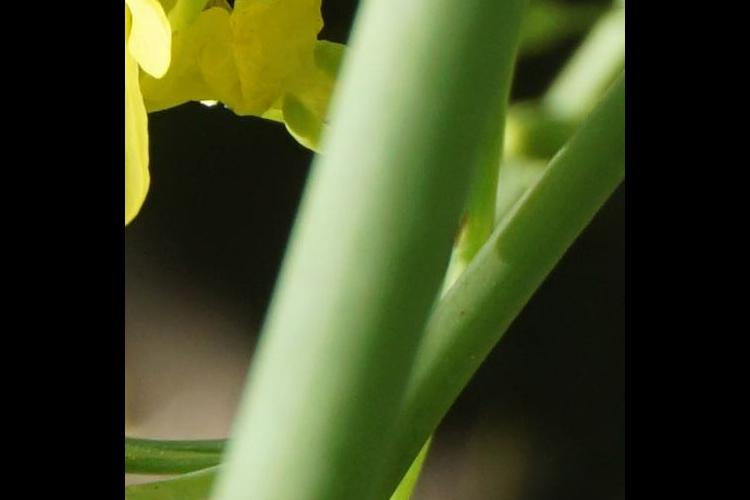yellow: (137, 1, 315, 192)
